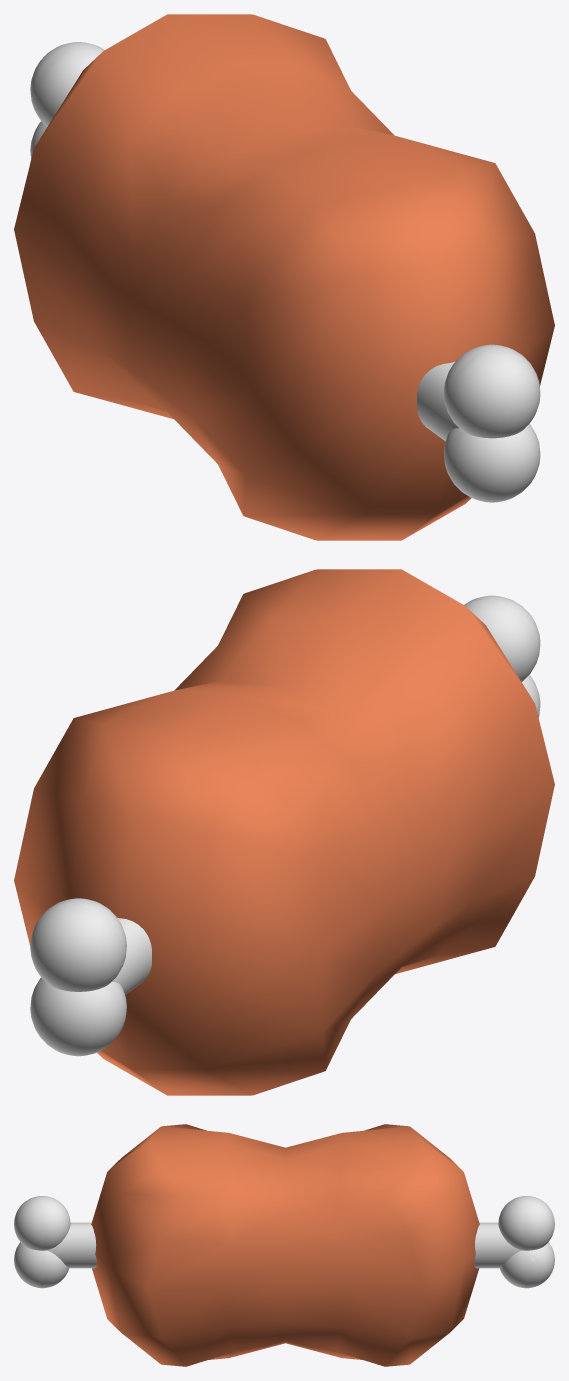
Rendered from 骨付き肉やり直し3.fbx.
3 renders of one model, top to bottom at view 1: azimuth 30°, elevation 25°; view 2: azimuth 150°, elevation 25°; view 3: azimuth 270°, elevation 25°, orthographic. The views are drawn at different scales.
Visible parts, largest first — view 1: 円柱; view 2: 円柱; view 3: 円柱.
Part boxes in pixels (<box>): 円柱: <box>14,14,554,540</box>; 円柱: <box>14,569,554,1095</box>; 円柱: <box>14,1124,554,1366</box>.
Size of the model in its own units: 115 by 121 by 285.
